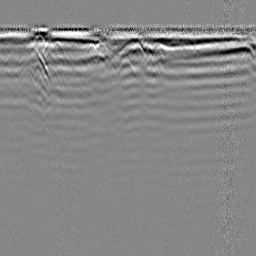cavity: (118, 55, 135, 76)
